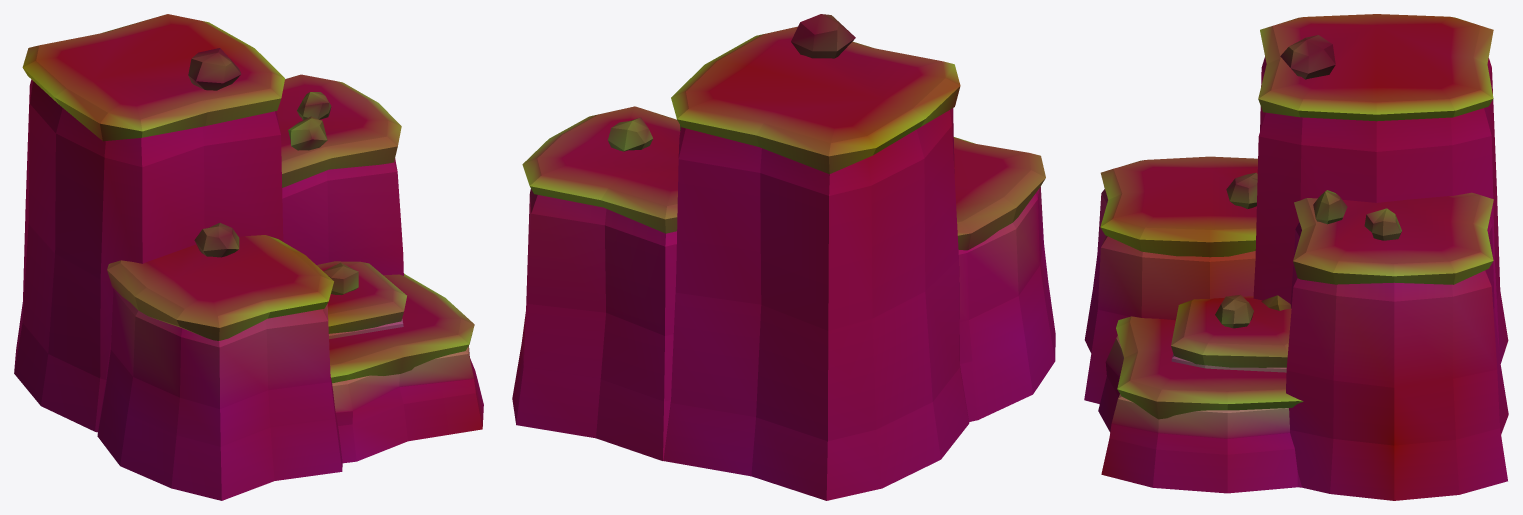
Rendered from Cliff_Cluster_Corner.glb.
3 views of the same model, side by side, from view 1: azimuth 30°, elevation 25°; view 2: azimuth 150°, elevation 25°; view 3: azimuth 270°, elevation 25° (orthographic). The views are drawn at different scales.
Visible parts, largest first — view 1: Cliff_Cluster_Corner; view 2: Cliff_Cluster_Corner; view 3: Cliff_Cluster_Corner.
Part boxes in pixels (bbox=[...]): Cliff_Cluster_Corner: bbox=[14, 14, 483, 500]; Cliff_Cluster_Corner: bbox=[512, 14, 1055, 500]; Cliff_Cluster_Corner: bbox=[1084, 14, 1508, 500].
Size of the model in its own units: 4.89 by 4.43 by 4.84.
